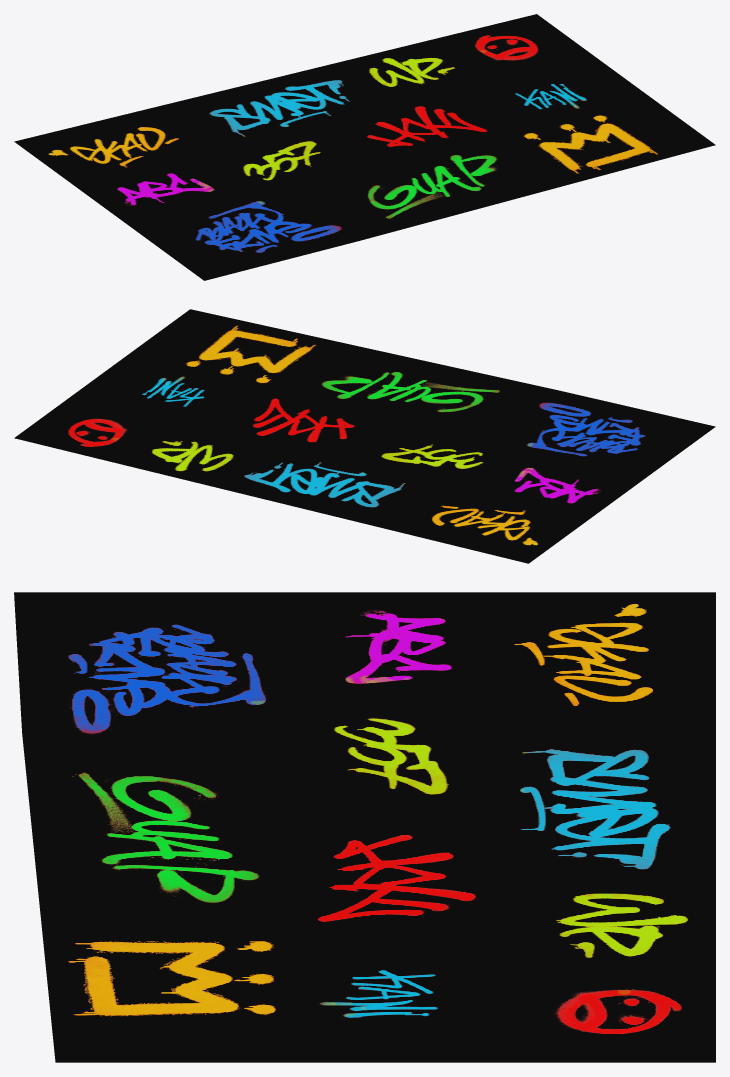
The model's file is Grafitti.fbx.
3 views of the same model, one above another, from view 1: azimuth 30°, elevation 25°; view 2: azimuth 150°, elevation 25°; view 3: azimuth 270°, elevation 25° (orthographic). The views are drawn at different scales.
Visible parts, largest first — view 1: gra_11, gra_02, gra_04, gra_01, gra_05, gra_06, gra_10, gra_07, gra_09, gra_03, gra_08; view 2: gra_11, gra_02, gra_04, gra_01, gra_05, gra_06, gra_10, gra_07, gra_09, gra_03, gra_08; view 3: gra_11, gra_02, gra_04, gra_01, gra_05, gra_06, gra_10, gra_07, gra_09, gra_03, gra_08.
Part boxes in pixels (x1,y1,x2,y2): gra_11: [288, 134, 550, 233]; gra_02: [130, 189, 385, 280]; gra_04: [496, 94, 715, 189]; gra_01: [171, 63, 393, 147]; gra_05: [14, 103, 230, 185]; gra_06: [326, 93, 516, 164]; gra_10: [201, 124, 379, 197]; gra_07: [74, 155, 251, 226]; gra_09: [455, 58, 645, 127]; gra_03: [334, 37, 497, 107]; gra_08: [440, 14, 596, 82]; gra_11: [277, 347, 531, 441]; gra_02: [489, 384, 715, 479]; gra_04: [122, 309, 360, 393]; gra_01: [214, 443, 432, 525]; gra_05: [374, 482, 587, 563]; gra_06: [214, 389, 394, 459]; gra_10: [341, 421, 523, 489]; gra_07: [464, 450, 642, 519]; gra_09: [74, 359, 253, 428]; gra_03: [110, 418, 273, 486]; gra_08: [14, 394, 169, 461]; gra_11: [24, 733, 300, 924]; gra_02: [14, 592, 287, 757]; gra_04: [40, 910, 311, 1062]; gra_01: [493, 733, 715, 880]; gra_05: [493, 592, 715, 733]; gra_06: [292, 818, 493, 944]; gra_10: [285, 701, 493, 818]; gra_07: [286, 592, 493, 705]; gra_09: [302, 934, 493, 1062]; gra_03: [493, 879, 715, 975]; gra_08: [493, 974, 715, 1062].
Size of the model in its own units: 0.3022 by 0 by 0.1906.
